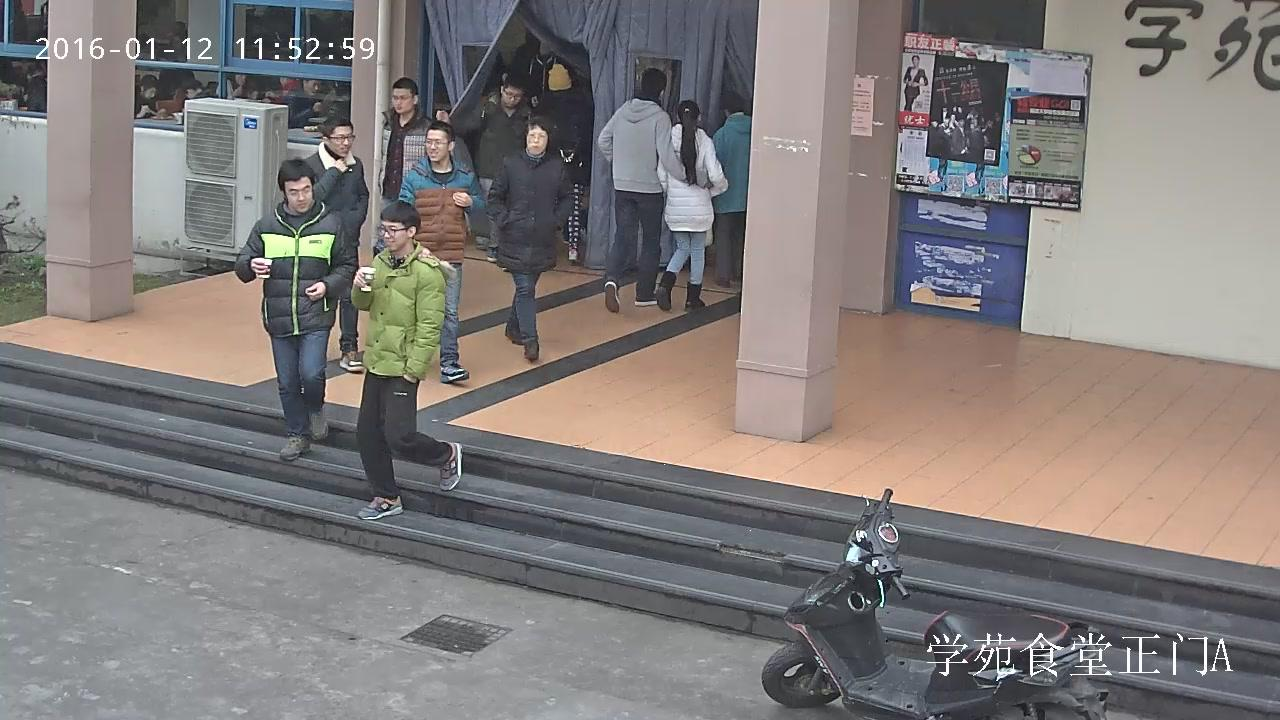person: (235, 159, 354, 461), (349, 202, 461, 519), (597, 68, 712, 312), (397, 121, 488, 383), (293, 114, 369, 371), (494, 115, 570, 359), (435, 74, 534, 251), (656, 100, 728, 313), (541, 63, 591, 265), (712, 93, 751, 288), (377, 76, 432, 203), (166, 69, 207, 119), (310, 80, 349, 126), (903, 55, 928, 112), (133, 75, 161, 119), (215, 71, 246, 98)
